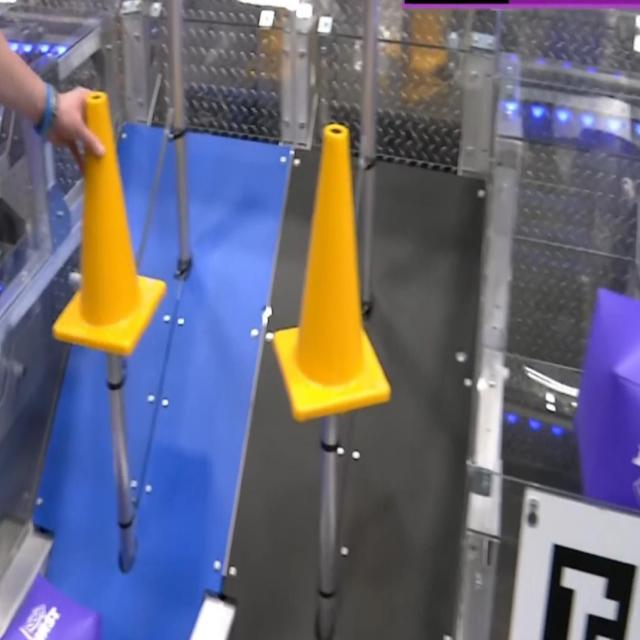frc_cone: (270, 121, 395, 424), (47, 82, 167, 354)
frc_cube: (571, 285, 640, 519), (0, 572, 105, 640)
